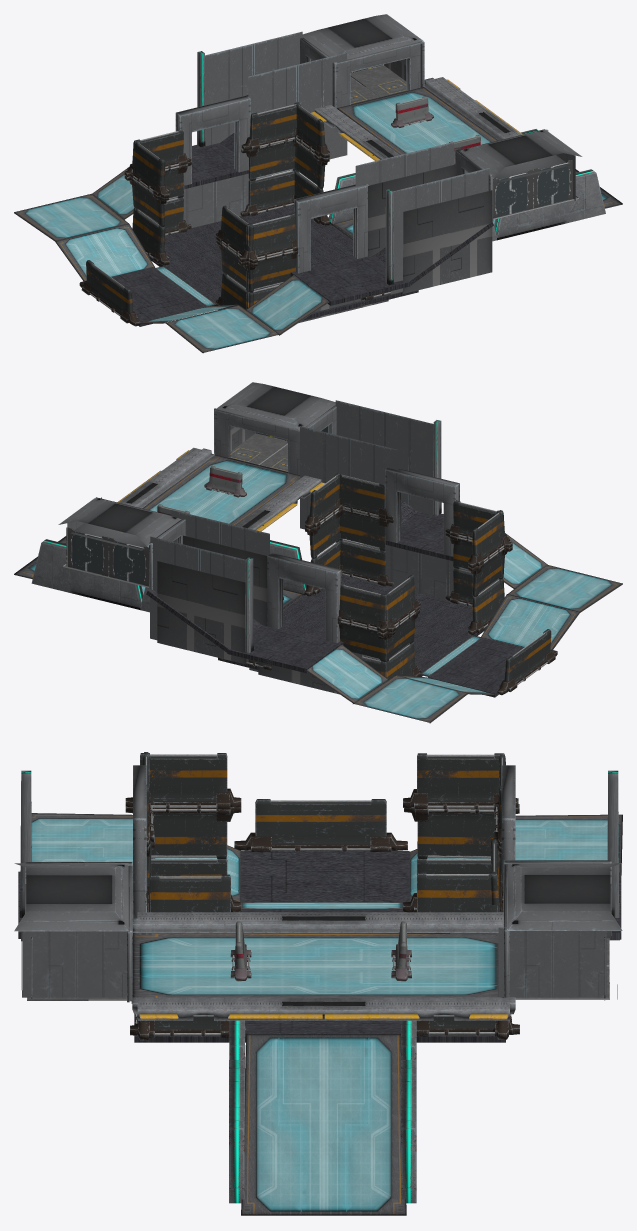
File: AbeStage2_4.fbx
The picture shows the model from 3 angles, top to bottom: view 1: azimuth 30°, elevation 25°; view 2: azimuth 150°, elevation 25°; view 3: azimuth 270°, elevation 25°; orthographic projection. The views are drawn at different scales.
Parts seen in each view (by area): view 1: Spaceship_room_wall1_mdl__4_, shipboard_mdl, Spaceship_room_wall1_mdl__7_, Spaceship_room_wall1_mdl__2_, Spaceship_room_wall1_mdl__6_, Spaceship_room_ceiling_mdl__1_, Docking_Floors_mdl__6_, Spaceship_shipboard_mdl__6_, Spaceship_room_ceiling_mdl__2_, Spaceship_shipboard_mdl__8_, Spaceship_shipboard_mdl__3_, spaceship_shipboard_wall_mdl_1 (+45 smaller); view 2: Spaceship_room_wall1_mdl__7_, shipboard_mdl, Spaceship_room_wall1_mdl__4_, Spaceship_room_wall1_mdl__2_, Spaceship_room_wall1_mdl__6_, Spaceship_room_ceiling_mdl__2_, spaceship_shipboard_wall_mdl_3, Spaceship_shipboard_mdl__1_, Spaceship_room_ceiling_mdl__1_, Spaceship_roomenter_mdl__12_, Spaceship_shipboard_mdl__8_, Spaceship_shipboard_mdl__3_ (+43 smaller); view 3: Spaceship_shipboard_mdl__5_, shipboard_mdl, Docking_Floors_mdl__14_, Spaceship_docking_side_mdl, Spaceship_docking_side_mdl_1, Barricade_mdl, Spaceship_room_ceiling_mdl__1_, Spaceship_room_ceiling_mdl__2_, Spaceship_room_wall2_mdl__1_, Spaceship_room_wall2_mdl__2_, Spaceship_shipboard_mdl__3_, Barricade_mdl__20_ (+28 smaller).
Part boxes in pixels (x1=…): Spaceship_room_wall1_mdl__4_: x1=390, y1=168, x2=492, y2=294; shipboard_mdl: x1=337, y1=87, x2=497, y2=154; Spaceship_room_wall1_mdl__7_: x1=204, y1=31, x2=302, y2=146; Spaceship_room_wall1_mdl__2_: x1=355, y1=142, x2=455, y2=256; Spaceship_room_wall1_mdl__6_: x1=246, y1=52, x2=347, y2=159; Spaceship_room_ceiling_mdl__1_: x1=459, y1=130, x2=582, y2=182; Docking_Floors_mdl__6_: x1=290, y1=255, x2=410, y2=305; Spaceship_shipboard_mdl__6_: x1=55, y1=224, x2=155, y2=281; Spaceship_room_ceiling_mdl__2_: x1=302, y1=14, x2=423, y2=62; Spaceship_shipboard_mdl__8_: x1=14, y1=193, x2=128, y2=241; Spaceship_shipboard_mdl__3_: x1=166, y1=305, x2=278, y2=353; spaceship_shipboard_wall_mdl_1: x1=494, y1=169, x2=605, y2=240; Spaceship_room_wall1_mdl__7_: x1=150, y1=536, x2=248, y2=664; shipboard_mdl: x1=142, y1=455, x2=300, y2=547; Spaceship_room_wall1_mdl__4_: x1=335, y1=400, x2=433, y2=515; Spaceship_room_wall1_mdl__2_: x1=300, y1=426, x2=398, y2=541; Spaceship_room_wall1_mdl__6_: x1=171, y1=510, x2=269, y2=626; Spaceship_room_ceiling_mdl__2_: x1=58, y1=498, x2=182, y2=550; spaceship_shipboard_wall_mdl_3: x1=31, y1=539, x2=143, y2=610; Spaceship_shipboard_mdl__1_: x1=480, y1=594, x2=580, y2=649; Spaceship_room_ceiling_mdl__1_: x1=216, y1=382, x2=335, y2=429; Spaceship_roomenter_mdl__12_: x1=267, y1=554, x2=339, y2=643; Spaceship_shipboard_mdl__8_: x1=353, y1=675, x2=468, y2=723; Spaceship_shipboard_mdl__3_: x1=508, y1=565, x2=622, y2=612; Spaceship_shipboard_mdl__5_: x1=241, y1=1033, x2=406, y2=1215; shipboard_mdl: x1=131, y1=933, x2=503, y2=1003; Docking_Floors_mdl__14_: x1=240, y1=851, x2=409, y2=902; Spaceship_docking_side_mdl: x1=132, y1=912, x2=323, y2=1020; Spaceship_docking_side_mdl_1: x1=323, y1=912, x2=515, y2=1020; Barricade_mdl: x1=234, y1=799, x2=407, y2=851; Spaceship_room_ceiling_mdl__1_: x1=14, y1=863, x2=128, y2=931; Spaceship_room_ceiling_mdl__2_: x1=508, y1=863, x2=622, y2=938; Spaceship_room_wall2_mdl__1_: x1=22, y1=927, x2=129, y2=997; Spaceship_room_wall2_mdl__2_: x1=498, y1=927, x2=606, y2=997; Spaceship_shipboard_mdl__3_: x1=31, y1=813, x2=151, y2=863; Barricade_mdl__20_: x1=403, y1=753, x2=518, y2=810.
Size of the model in its own units: 3316 by 936 by 2279.
